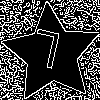L: (26, 28, 63, 79)
